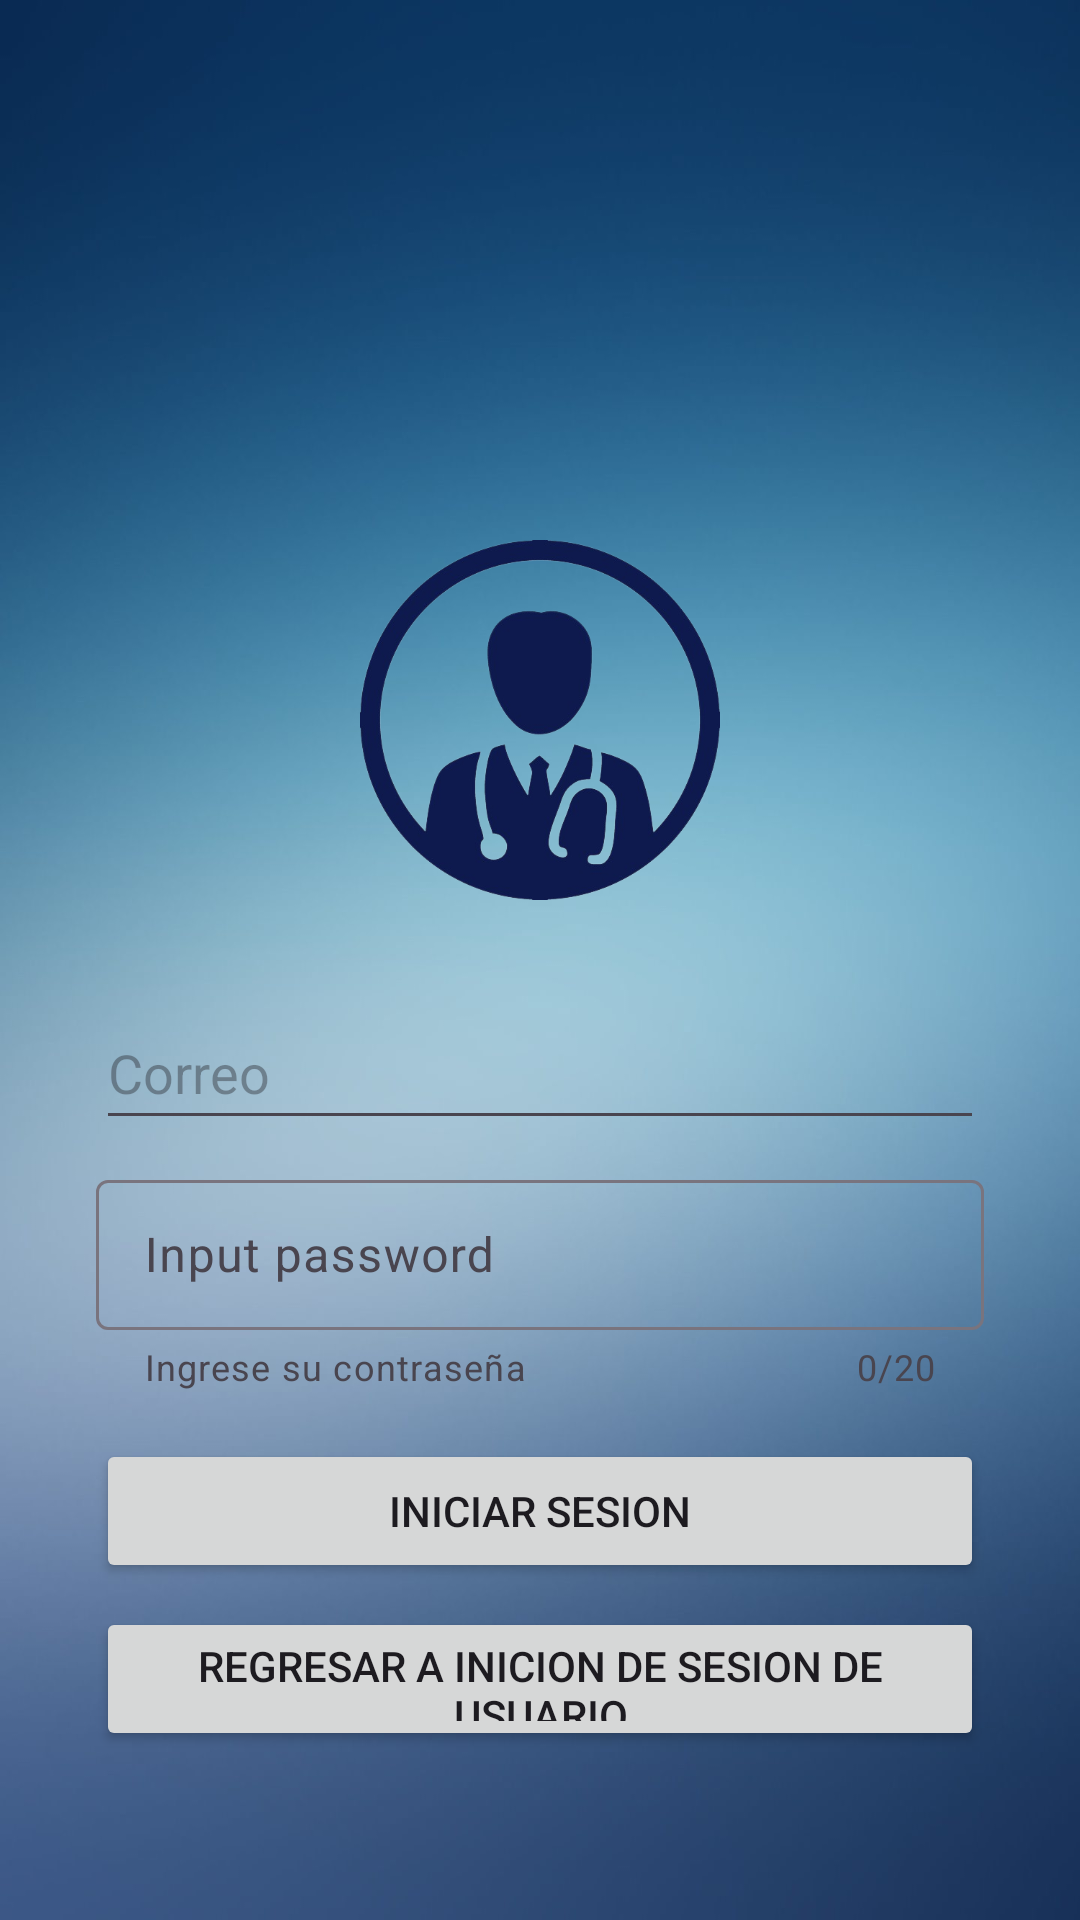

Point at icon controls on the screen. Image size 1080x1920, points as (x=x, y=y).
doc: (x=540, y=720)
